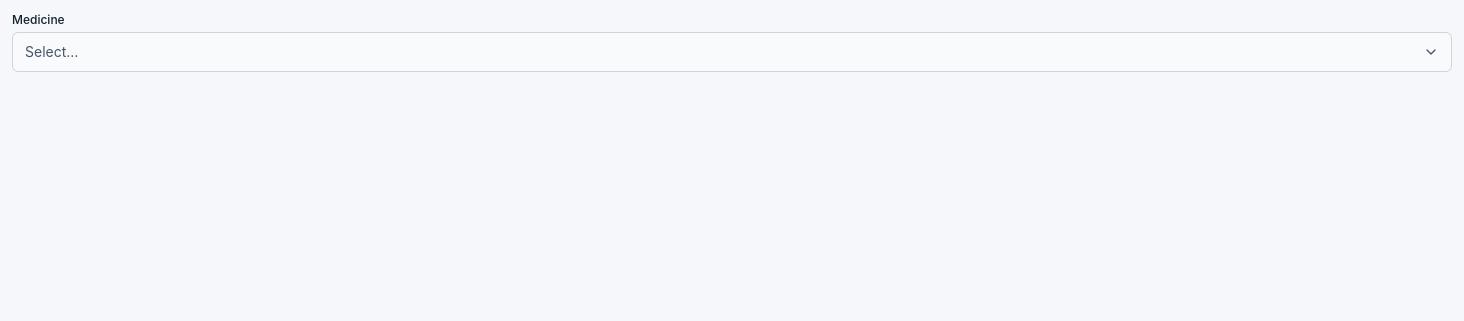
it: SearchableSelect › selects a clicked option and closes the list
Click the dropdown named "Medicine" at x=52, y=52, box [12,32,1452,72]
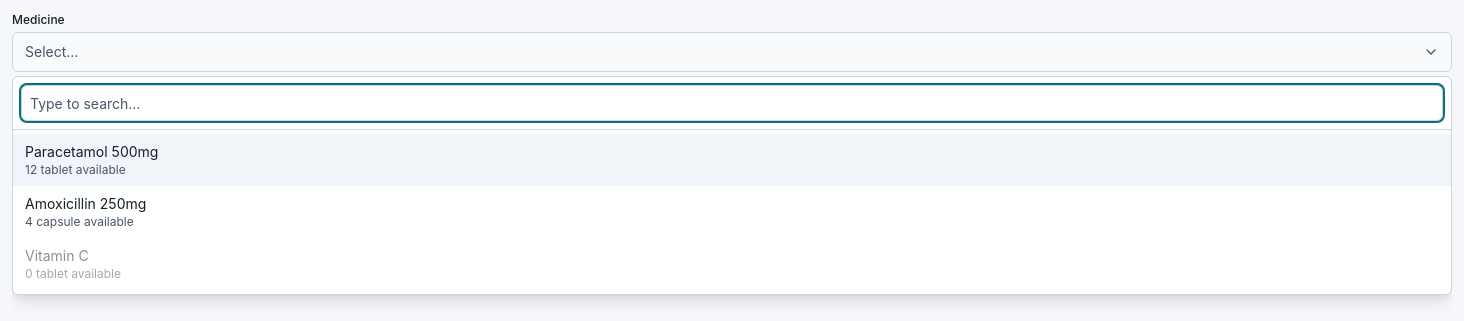
Click the option "Amoxicillin 250mg 4 capsule available" at x=86, y=212, box [25,195,146,229]
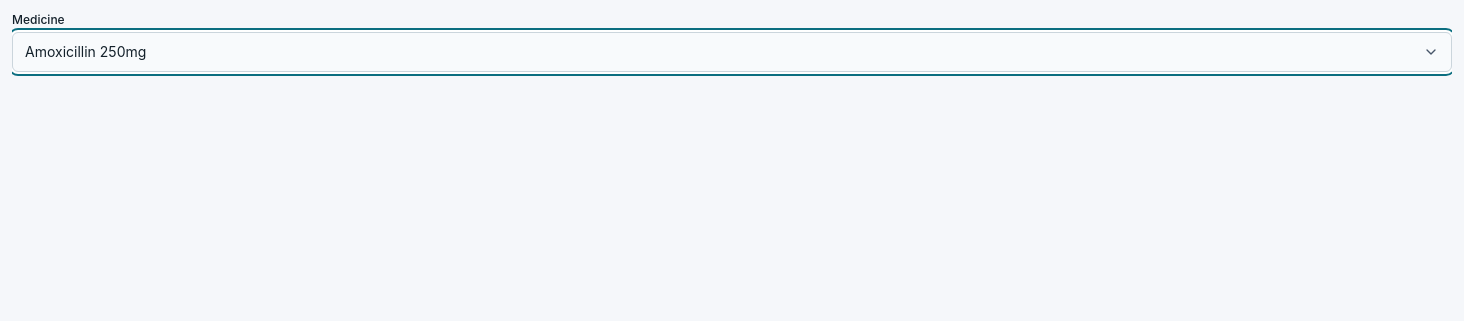
Expected: the dropdown named "Medicine" reads "Amoxicillin 250mg", [12,32,1452,72]
Expected: the list is gone
